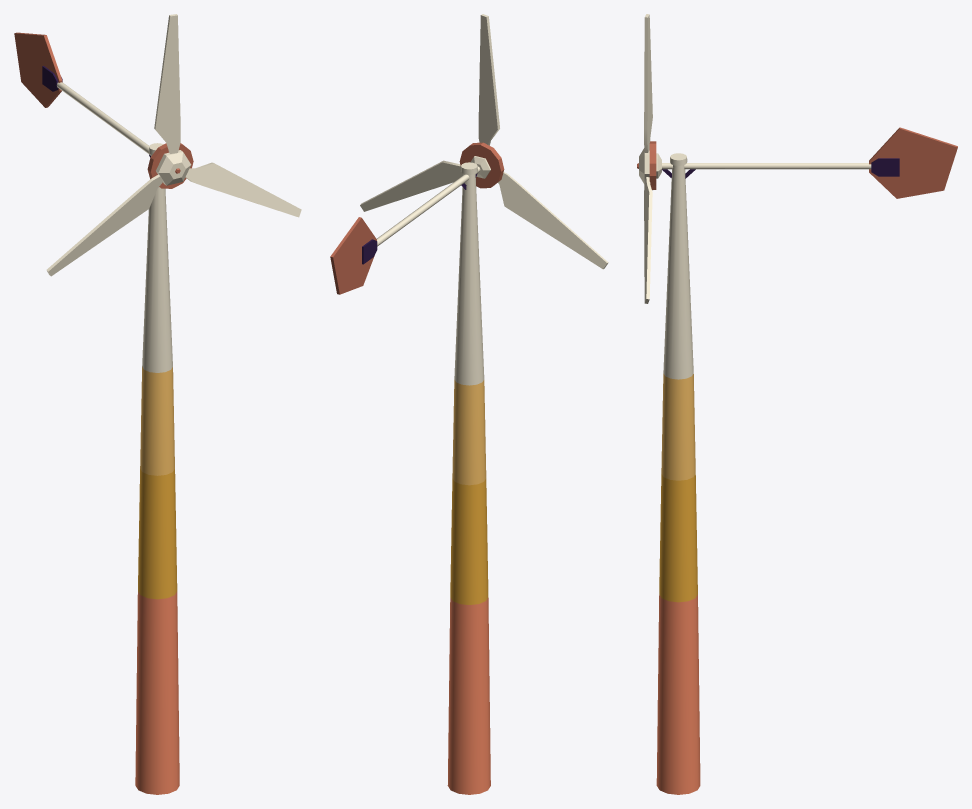
Rendered from M_Windmill_Var1_1.fbx.
3 views of the same model, side by side, from view 1: azimuth 30°, elevation 25°; view 2: azimuth 150°, elevation 25°; view 3: azimuth 270°, elevation 25° (orthographic). The views are drawn at different scales.
Parts seen in each view (by area): view 1: M_Windmill_Var1_1; view 2: M_Windmill_Var1_1; view 3: M_Windmill_Var1_1.
Part boxes in pixels (x1,y1,x2,y2): M_Windmill_Var1_1: (14, 14, 301, 794); M_Windmill_Var1_1: (330, 14, 608, 794); M_Windmill_Var1_1: (637, 14, 957, 794).
Bounding box in the file's own units: 1.26 × 3.69 × 1.39.
